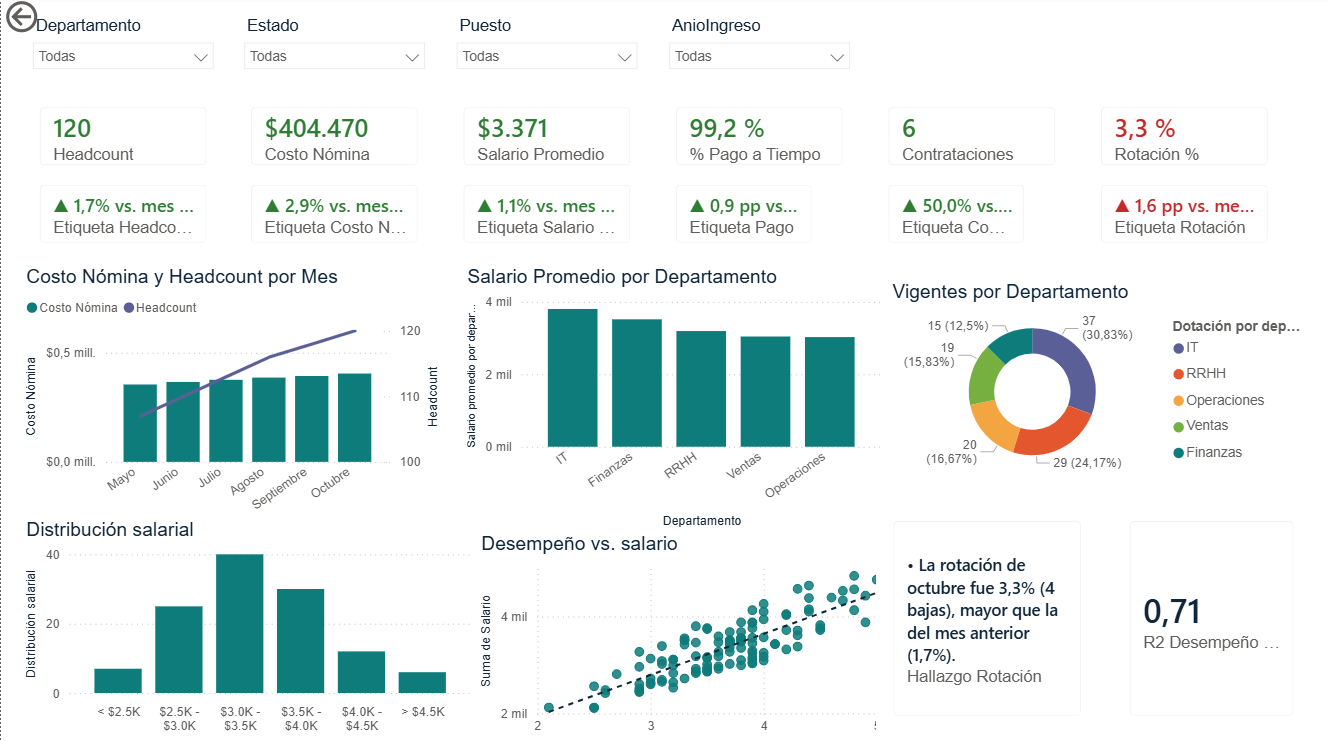

What the dashboard file says about the page in this screenshot:
{"tool":"powerbi","page":{"name":"Página 1","canvas":[1280,720],"ordinal":0},"visuals":[{"type":"cardVisual","fields":{"Data":["meses.Headcount"]},"box":[20,90,195,90],"z":0},{"type":"cardVisual","fields":{"Data":["meses.Etiqueta Headcount"]},"box":[20,165,195.9,90],"z":1000},{"type":"cardVisual","fields":{"Data":["empleados.Costo Nómina"]},"box":[225,90,195.9,90],"z":2000},{"type":"cardVisual","fields":{"Data":["meses.Etiqueta Costo Nómina"]},"box":[225,165,195,90],"z":3000},{"type":"cardVisual","fields":{"Data":["empleados.Salario Promedio"]},"box":[430,90,195,90],"z":4000},{"type":"cardVisual","fields":{"Data":["meses.Etiqueta Salario Promedio"]},"box":[430,165,195,90],"z":5000},{"type":"cardVisual","fields":{"Data":["empleados.% Pago a Tiempo"]},"box":[635,90,195,90],"z":6000},{"type":"cardVisual","fields":{"Data":["meses.Etiqueta Pago"]},"box":[635,165,165,90],"z":7000},{"type":"cardVisual","fields":{"Data":["empleados.Contrataciones"]},"box":[840,90,195,90],"z":8000},{"type":"cardVisual","fields":{"Data":["meses.Etiqueta Contrataciones"]},"box":[840,165,165,90],"z":9000},{"type":"cardVisual","fields":{"Data":["empleados.Rotación %"]},"box":[1045,90,195,90],"z":10000},{"type":"cardVisual","fields":{"Data":["meses.Etiqueta Rotación"]},"box":[1045,165,195,90],"z":11000},{"type":"slicer","fields":{"Values":["empleados.Departamento"]},"box":[20,15,195,90],"z":12000},{"type":"slicer","fields":{"Values":["empleados.Estado"]},"box":[225,15,195,90],"z":13000},{"type":"slicer","fields":{"Values":["empleados.Puesto"]},"box":[430,15,195,90],"z":14000},{"type":"slicer","fields":{"Values":["empleados.AnioIngreso"]},"box":[635,15,195,90],"z":15000},{"type":"lineClusteredColumnComboChart","fields":{"Category":["meses.Mes"],"Y":["empleados.Costo Nómina"],"Y2":["meses.Headcount"]},"box":[19.3,260.2,410.4,257.3],"z":16000},{"type":"clusteredColumnChart","title":"Salario Promedio por Departamento","fields":{"Category":["empleados.Departamento"],"Y":["meses.Salario Prom Vigentes"]},"box":[444.6,260.2,410.4,257.3],"z":17000},{"type":"donutChart","fields":{"Category":["empleados.Departamento"],"Y":["meses.Vigentes"]},"box":[855,275.1,410.4,193.3],"z":18000},{"type":"clusteredColumnChart","title":"Distribución salarial","fields":{"Category":["empleados.RangoSalarial"],"Y":["meses.Vigentes"]},"box":[19.3,504.1,440.2,215.6],"z":19000},{"type":"scatterChart","title":"Desempeño vs. salario","fields":{"X":["Sum(empleados.Rating)"],"Y":["Sum(empleados.Salario)"],"Category":["empleados.ID"]},"box":[459,517,396,203],"z":20000},{"type":"cardVisual","fields":{"Data":["meses.Hallazgo Rotación"]},"box":[844.3,490,215.7,222.9],"z":21000},{"type":"cardVisual","fields":{"Data":["meses.R2 Desempeño vs Salario"]},"box":[1072.9,490,192.9,222.9],"z":22000}]}

Visuals, with their boxes in screenshot pixels (x1, y1, x2, y2), scaled from the page's 1280x720 canvas onto the 1327x741 screenshot:
cardVisual - meses.Headcount: 21/93/223/185
cardVisual - meses.Etiqueta Headcount: 21/170/224/262
cardVisual - empleados.Costo Nómina: 233/93/436/185
cardVisual - meses.Etiqueta Costo Nómina: 233/170/435/262
cardVisual - empleados.Salario Promedio: 446/93/648/185
cardVisual - meses.Etiqueta Salario Promedio: 446/170/648/262
cardVisual - empleados.% Pago a Tiempo: 658/93/860/185
cardVisual - meses.Etiqueta Pago: 658/170/829/262
cardVisual - empleados.Contrataciones: 871/93/1073/185
cardVisual - meses.Etiqueta Contrataciones: 871/170/1042/262
cardVisual - empleados.Rotación %: 1083/93/1286/185
cardVisual - meses.Etiqueta Rotación: 1083/170/1286/262
slicer - empleados.Departamento: 21/15/223/108
slicer - empleados.Estado: 233/15/435/108
slicer - empleados.Puesto: 446/15/648/108
slicer - empleados.AnioIngreso: 658/15/860/108
lineClusteredColumnComboChart - meses.Mes x empleados.Costo Nómina: 20/268/445/533
"Salario Promedio por Departamento" clusteredColumnChart: 461/268/886/533
donutChart - empleados.Departamento x meses.Vigentes: 886/283/1312/482
"Distribución salarial" clusteredColumnChart: 20/519/476/740
"Desempeño vs. salario" scatterChart: 476/532/886/740
cardVisual - meses.Hallazgo Rotación: 875/504/1099/734
cardVisual - meses.R2 Desempeño vs Salario: 1112/504/1312/734
